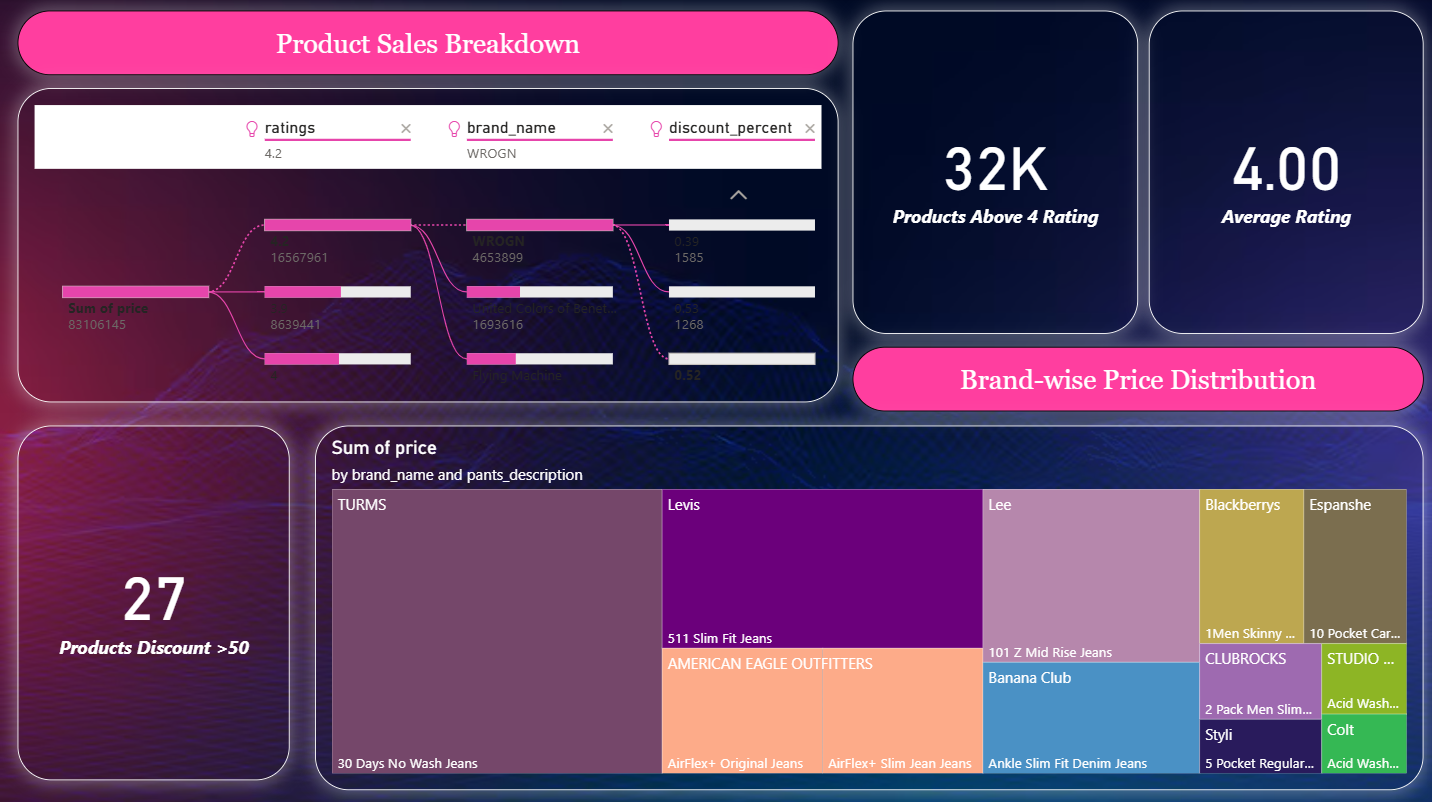

This screenshot's page, from the dashboard's own definition file:
{"tool":"powerbi","page":{"name":"Product sales breakdown","canvas":[1280,720],"ordinal":3},"visuals":[{"type":"textbox","box":[15.7,10.9,731.1,57.9],"z":0},{"type":"decompositionTreeVisual","fields":{"Analyze":["Sum(myntra_dataset_ByScraping.price)"],"ExplainBy":["myntra_dataset_ByScraping.ratings","myntra_dataset_ByScraping.brand_name","myntra_dataset_ByScraping.discount_percent"]},"box":[15.7,79.6,731.1,279.9],"z":1000},{"type":"card","fields":{"Values":["myntra_dataset_ByScraping.Products Above 4 Rating"]},"box":[758.9,10.9,254.6,288.3],"z":2000},{"type":"card","fields":{"Values":["myntra_dataset_ByScraping.Average Rating"]},"box":[1023.1,10.9,244.9,288.3],"z":3000},{"type":"textbox","box":[758.9,310.1,509.1,57.9],"z":4000},{"type":"card","fields":{"Values":["myntra_dataset_ByScraping.Products Discount >50"]},"box":[15.6,380.7,242.7,316.1],"z":6000},{"type":"treemap","fields":{"Group":["myntra_dataset_ByScraping.brand_name"],"Details":["myntra_dataset_ByScraping.pants_description"],"Values":["Sum(myntra_dataset_ByScraping.price)"]},"box":[280.5,380.7,987.4,325],"z":7000}]}

Visuals, with their boxes in screenshot pixels (x1, y1, x2, y2), scaled from the page's 1280x720 canvas onto the 1432x802 screenshot:
textbox: 18,12,835,77
decompositionTreeVisual - Sum(myntra_dataset_ByScraping.price) x myntra_dataset_ByScraping.ratings: 18,89,835,400
card - myntra_dataset_ByScraping.Products Above 4 Rating: 849,12,1134,333
card - myntra_dataset_ByScraping.Average Rating: 1145,12,1419,333
textbox: 849,345,1419,410
card - myntra_dataset_ByScraping.Products Discount >50: 17,424,289,776
treemap - myntra_dataset_ByScraping.brand_name x myntra_dataset_ByScraping.pants_description: 314,424,1418,786
